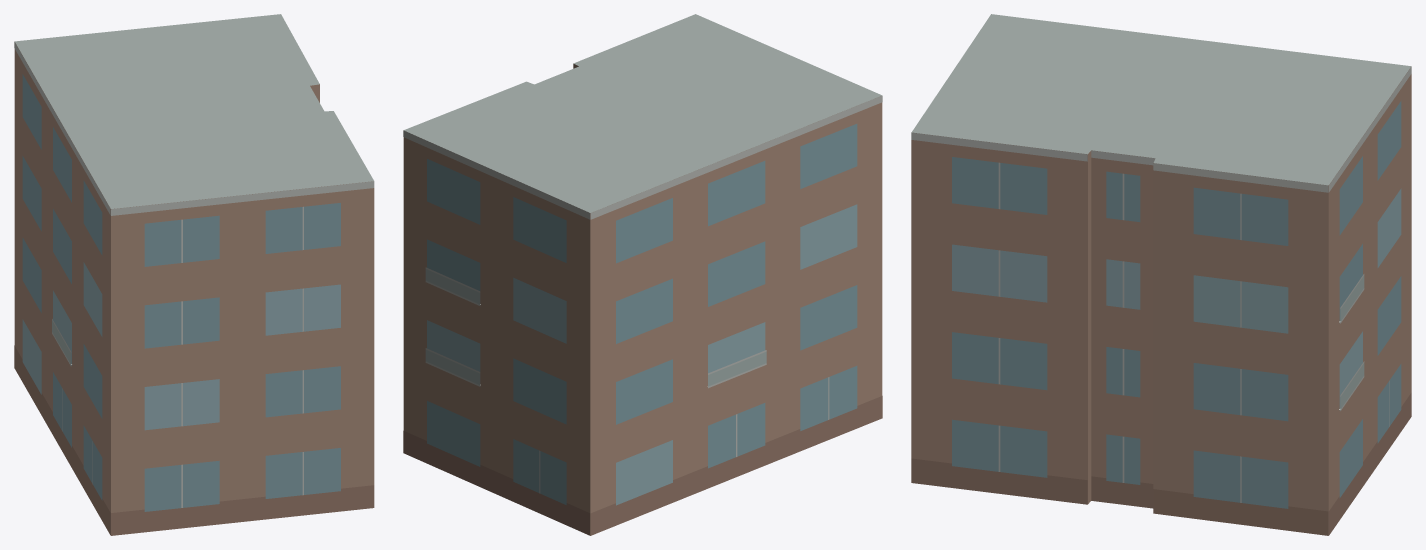
The model's file is survey-upis-32869186.glb.
3 views of the same model, side by side, from view 1: azimuth 30°, elevation 25°; view 2: azimuth 150°, elevation 25°; view 3: azimuth 270°, elevation 25° (orthographic). The views are drawn at different scales.
Parts seen in each view (by area): view 1: survey-upis-32869186.tmp; view 2: survey-upis-32869186.tmp; view 3: survey-upis-32869186.tmp.
Boxes of the visible parts, x1,y1,x2,y2 form: survey-upis-32869186.tmp: (14,14,374,535); survey-upis-32869186.tmp: (403,14,882,535); survey-upis-32869186.tmp: (911,14,1411,535).
Size of the model in its own units: 12.18 by 11.6 by 15.01.
